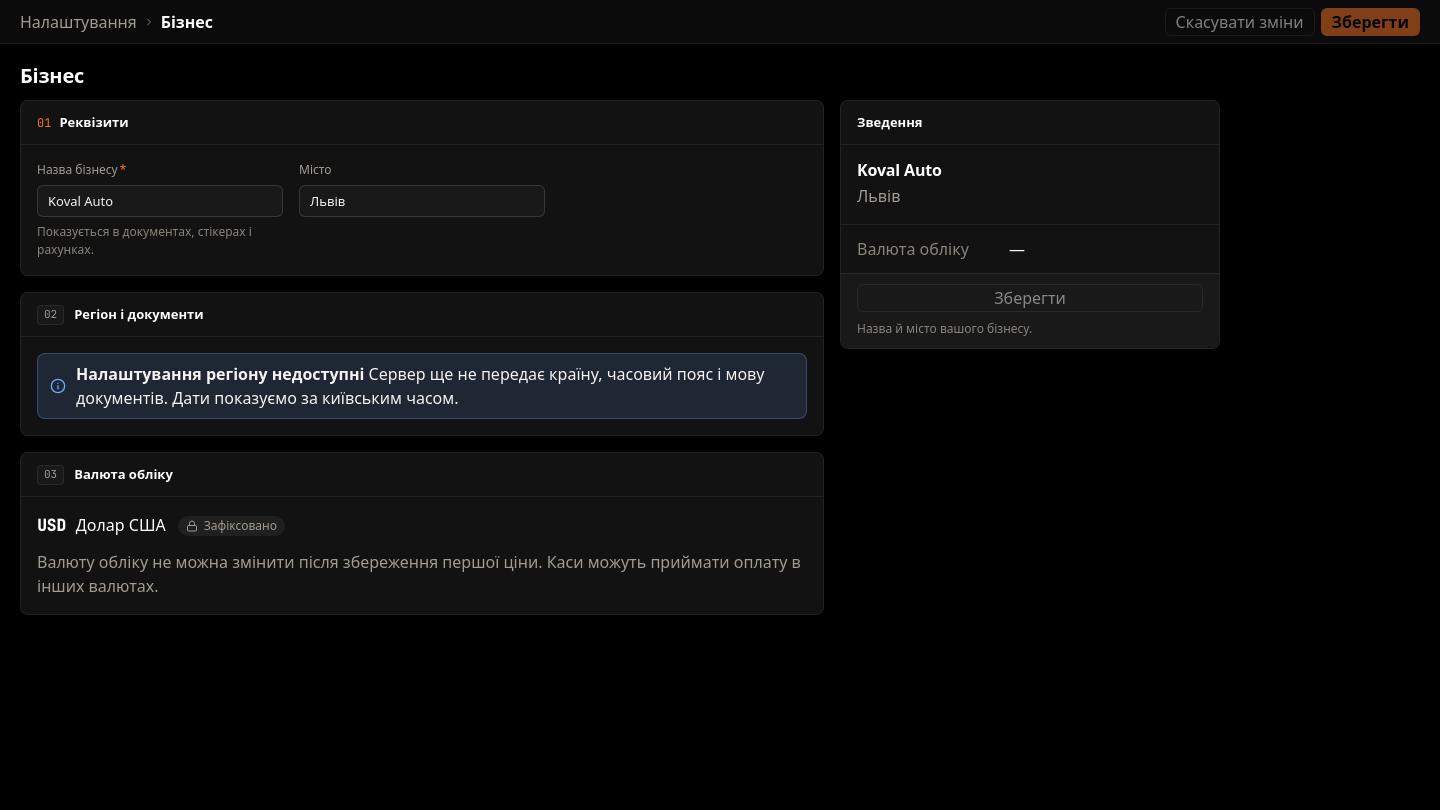
Test: round-trips trimmed business settings through the active tenant
Replace the text in the field labelled "Назва бізнесу" with "  Koval Parts  " at (160, 201), box [37, 185, 283, 217]
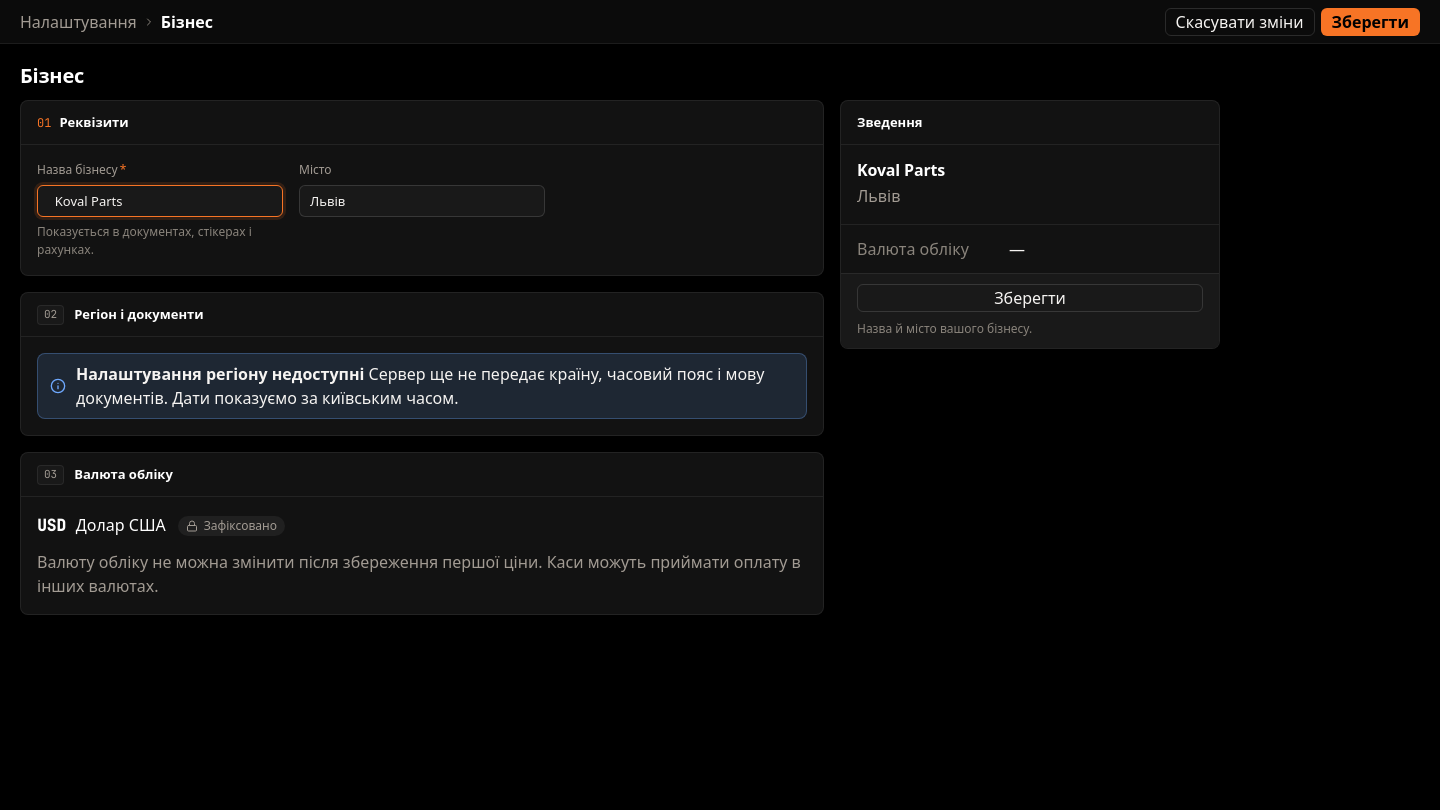
Type "  Київ  " into the field labelled "Місто" at (422, 201), box [299, 185, 545, 217]
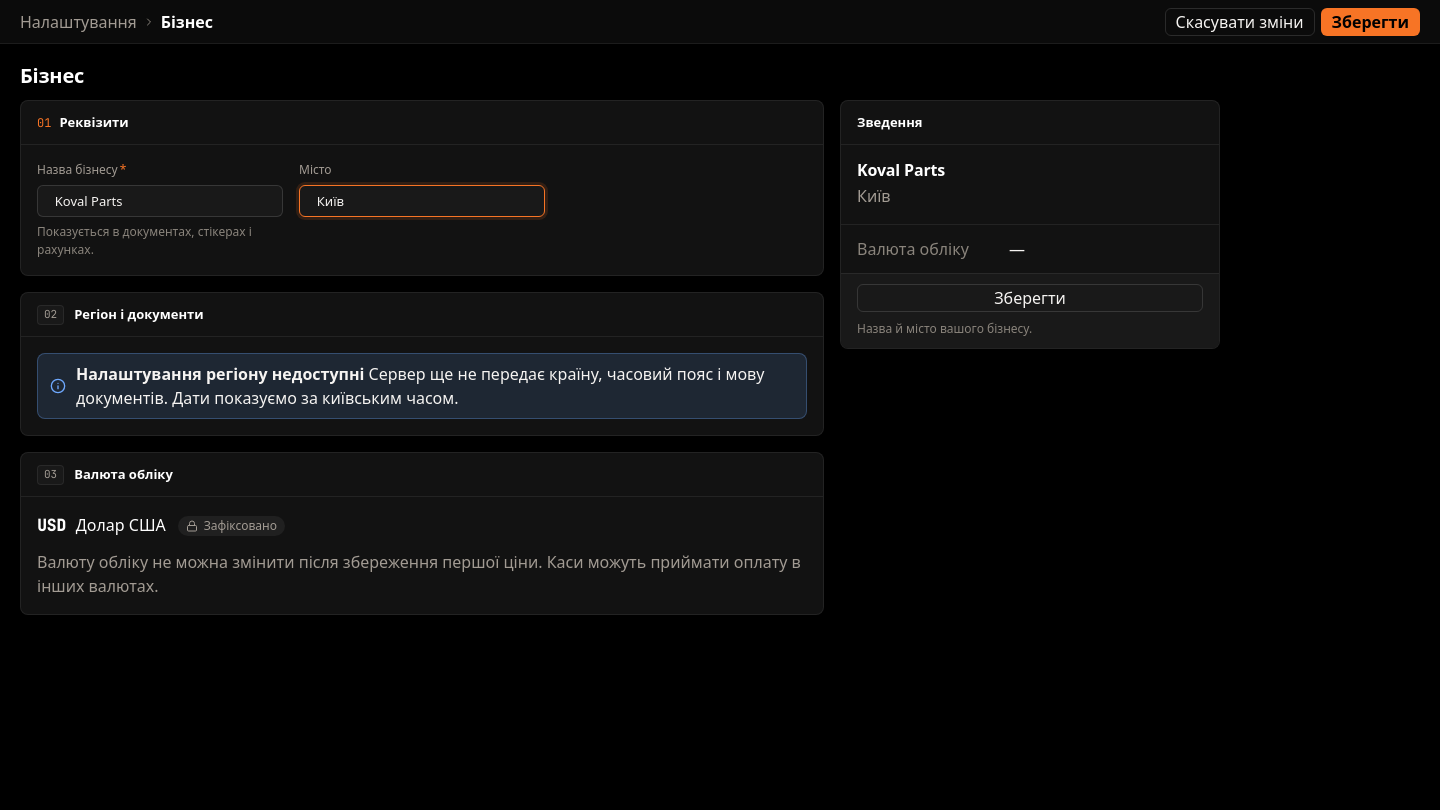
Click the 1st button "Зберегти" at (1370, 22), box [1321, 8, 1420, 36]
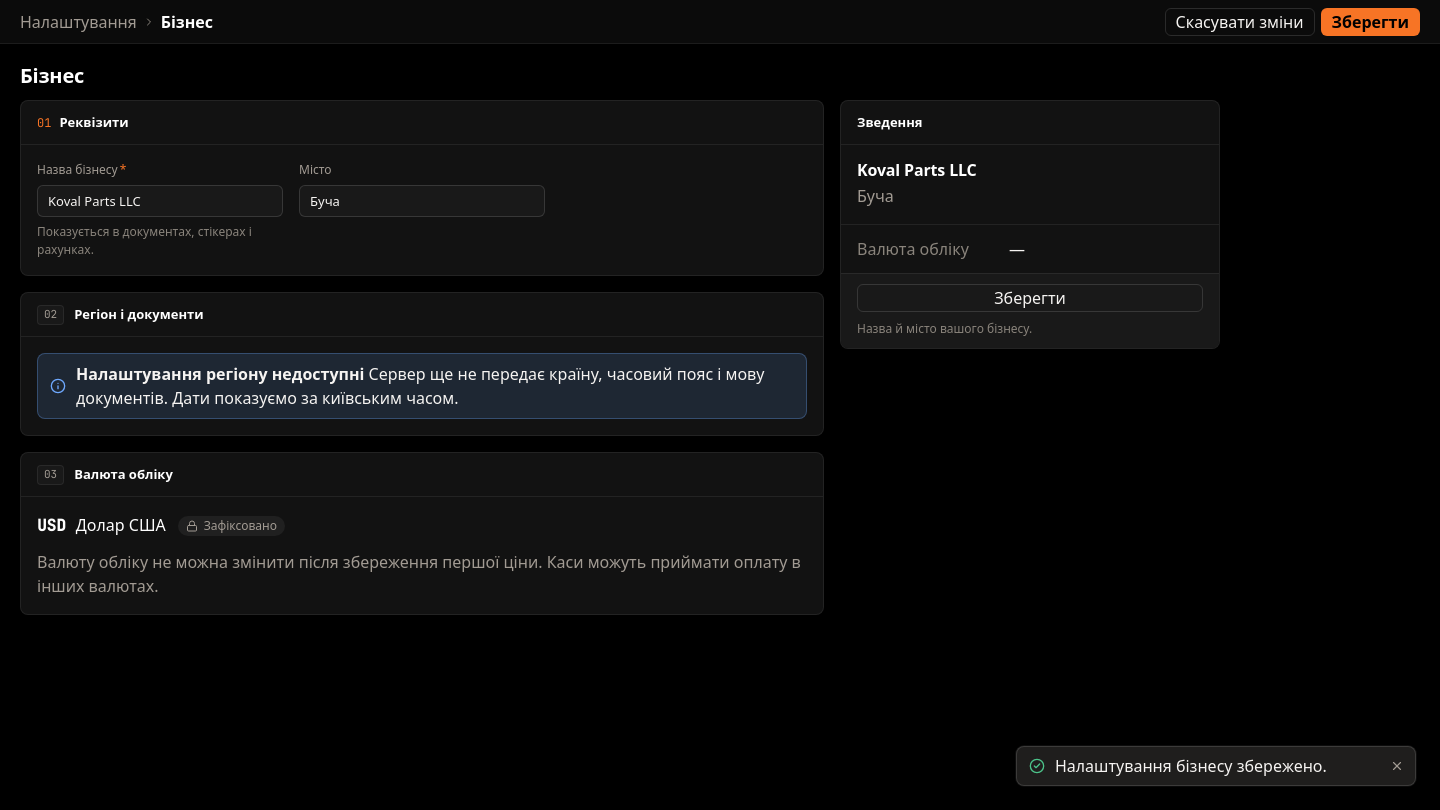
Result: the field labelled "Назва бізнесу" holds "Koval Parts LLC" at [37, 185, 283, 217]
Result: the field labelled "Місто" holds "Буча" at [299, 185, 545, 217]
